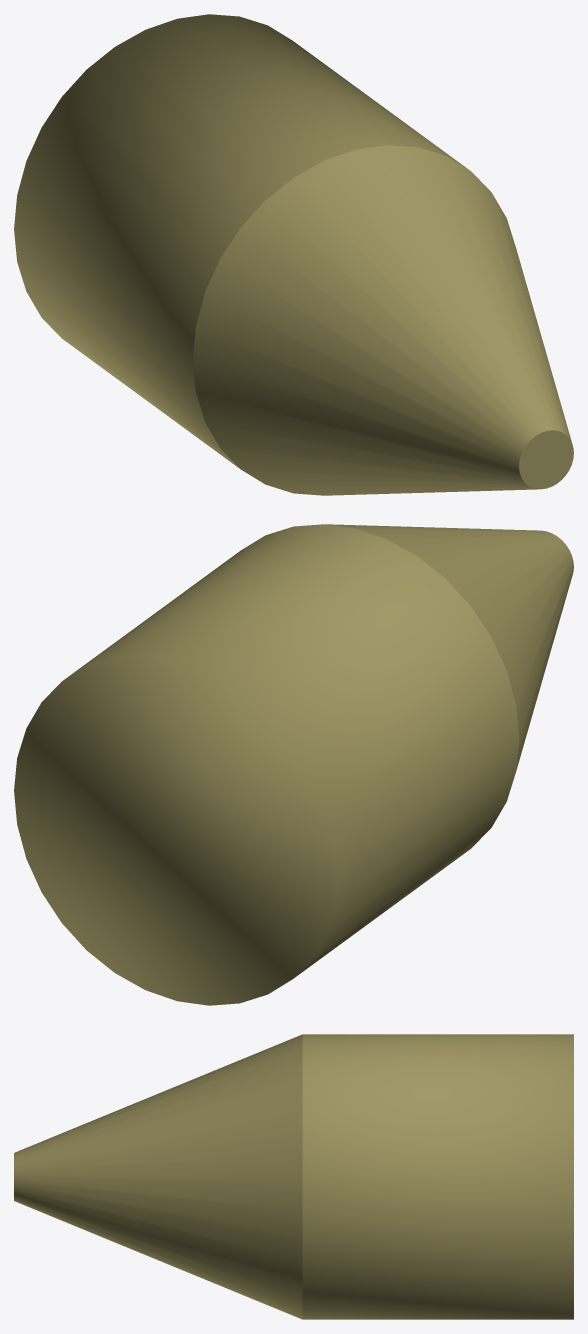
File: Bullet.fbx
3 renders of one model, top to bottom at view 1: azimuth 30°, elevation 25°; view 2: azimuth 150°, elevation 25°; view 3: azimuth 270°, elevation 25°, orthographic. The views are drawn at different scales.
Visible parts, largest first — view 1: Cube.002; view 2: Cube.002; view 3: Cube.002.
Part boxes in pixels (x1,y1,x2,y2): Cube.002: [14, 14, 573, 495]; Cube.002: [14, 524, 573, 1005]; Cube.002: [14, 1034, 573, 1319].
Bounding box in the file's own units: 26.64 × 26.64 × 52.19.
